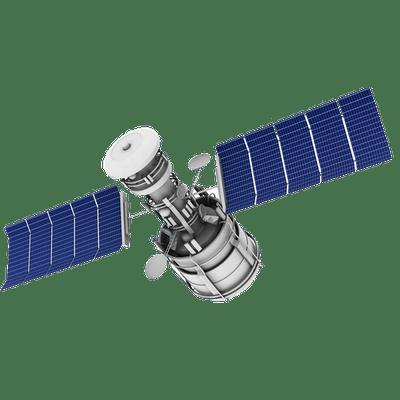antenna: (143, 253, 168, 280), (187, 151, 211, 170)
body: (102, 126, 264, 303)
solar: (214, 84, 394, 217), (0, 182, 125, 293)
